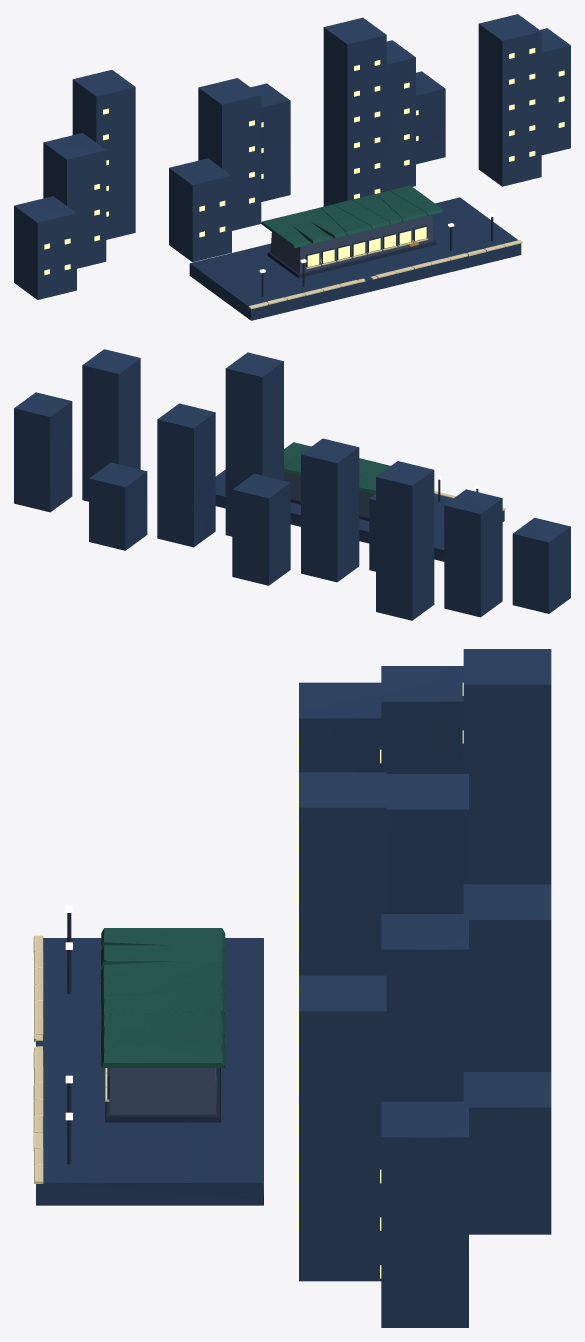
Rendered from pier.glb.
3 views of the same model, one above another, from view 1: azimuth 30°, elevation 25°; view 2: azimuth 150°, elevation 25°; view 3: azimuth 270°, elevation 25° (orthographic). The views are drawn at different scales.
Visible parts, largest first — view 1: pier; view 2: pier; view 3: pier.
Boxes of the visible parts, bbox=[...] form: pier: bbox=[14, 14, 570, 320]; pier: bbox=[14, 349, 570, 620]; pier: bbox=[33, 649, 551, 1327].
Bounding box in the file's own units: 67.8 × 21.44 × 29.53.
